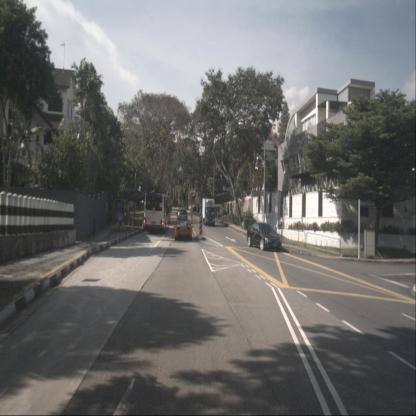vehicle-bus-rigid: (143, 189, 171, 233)
vehicle-car: (246, 222, 282, 251), (174, 220, 192, 240), (176, 209, 188, 224), (189, 204, 203, 212)
vehicle-truck: (202, 198, 216, 226)
